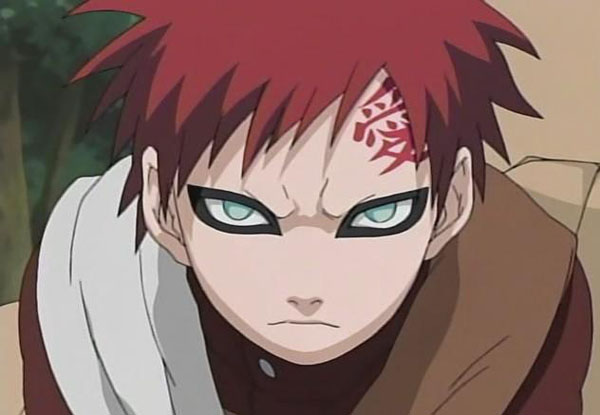gaara: (142, 60, 476, 369)
